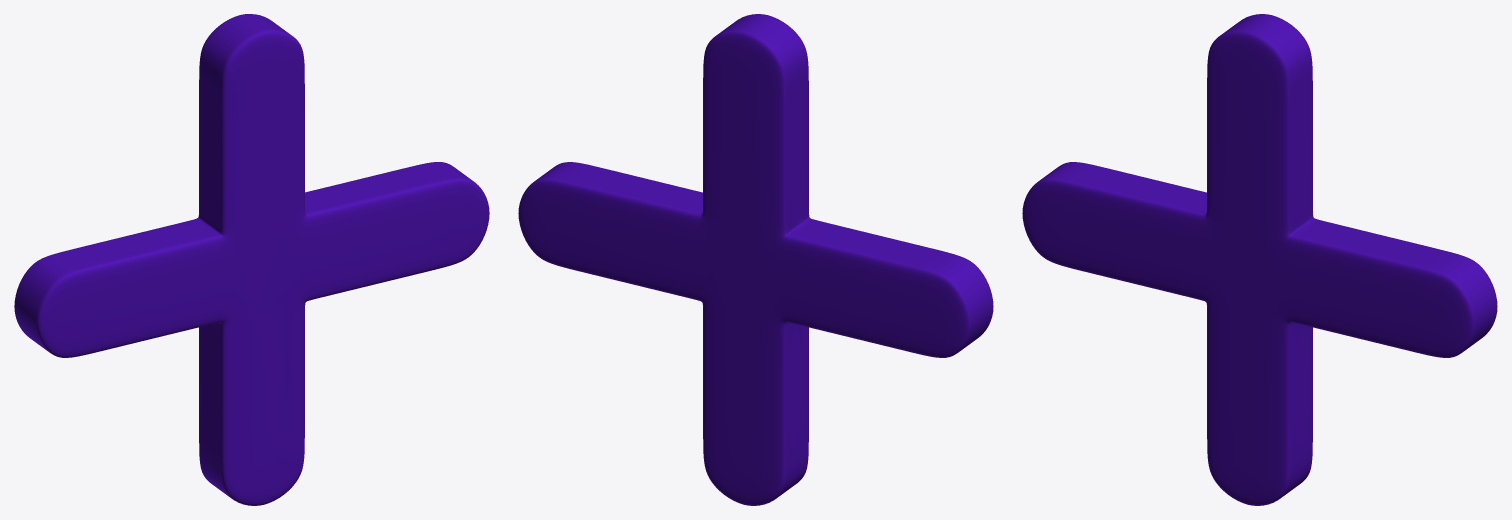
The model's file is plus.glb.
3 renders of one model, left to right at view 1: azimuth 30°, elevation 25°; view 2: azimuth 150°, elevation 25°; view 3: azimuth 330°, elevation 25°, orthographic.
Parts seen in each view (by area): view 1: Plus; view 2: Plus; view 3: Plus.
Part boxes in pixels (bbox=[...]): Plus: bbox=[14, 14, 489, 505]; Plus: bbox=[518, 14, 993, 505]; Plus: bbox=[1022, 14, 1497, 505].
Bounding box in the file's own units: 1.71 × 1.71 × 0.182.
